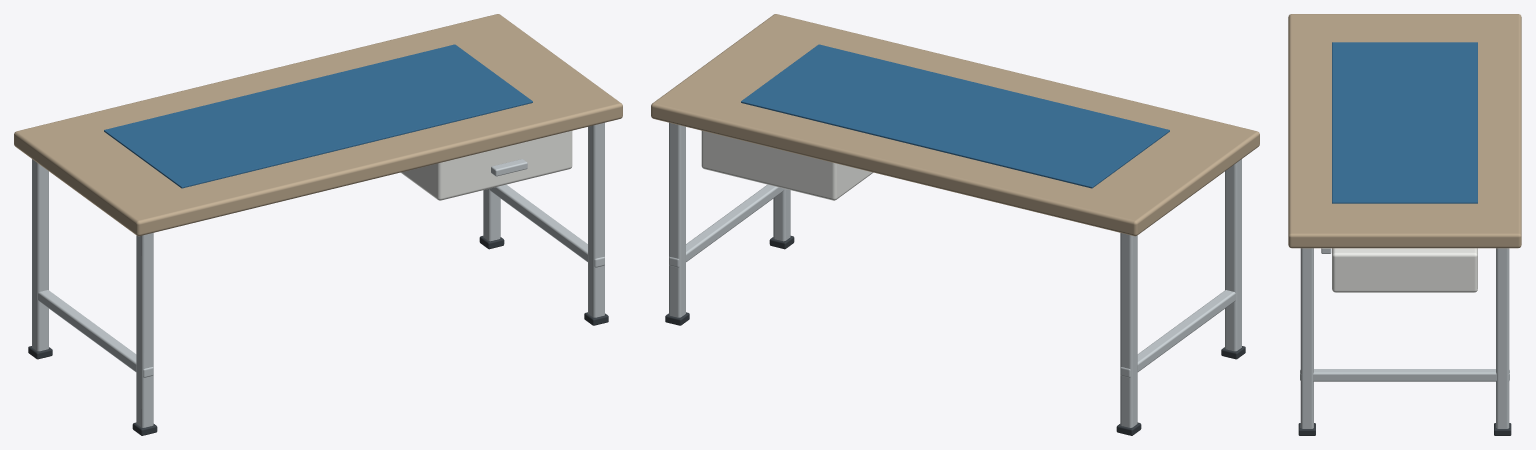
File: fencing-club-and-tournament-piste-equipment-inspection-fb863358__31217.glb
The picture shows the model from 3 angles, left to right: view 1: azimuth 30°, elevation 25°; view 2: azimuth 150°, elevation 25°; view 3: azimuth 270°, elevation 25°; orthographic projection. The views are drawn at different scales.
Parts seen in each view (by area): view 1: equipment-inspection-desk; view 2: equipment-inspection-desk; view 3: equipment-inspection-desk.
Part boxes in pixels (x1,y1,x2,y2): equipment-inspection-desk: [14, 14, 622, 435]; equipment-inspection-desk: [651, 14, 1259, 435]; equipment-inspection-desk: [1288, 14, 1521, 435].
Bounding box in the file's own units: 1.8 × 0.786 × 0.7999.
